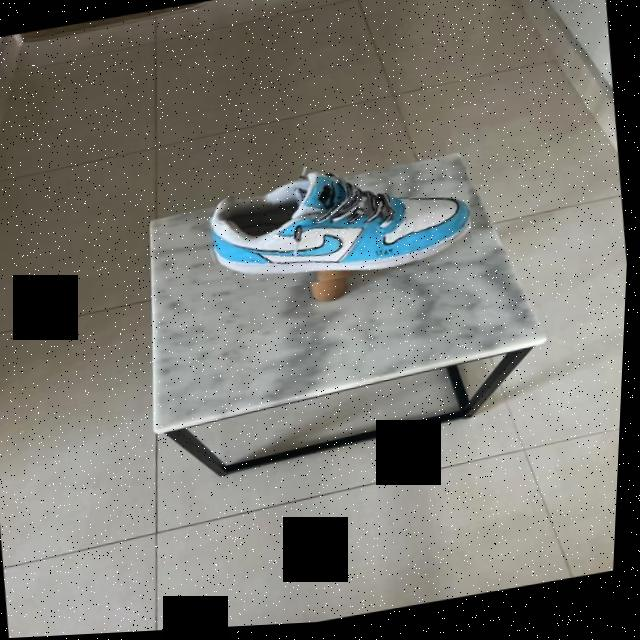shoe: (197, 145, 479, 303)
